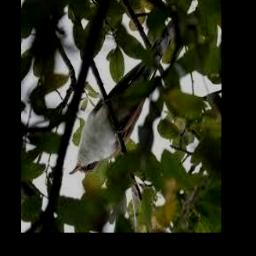Cuckoo: (70, 21, 177, 176)
